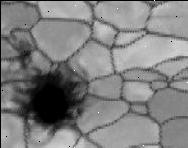good_void: (11, 58, 88, 137), (14, 40, 36, 69)
